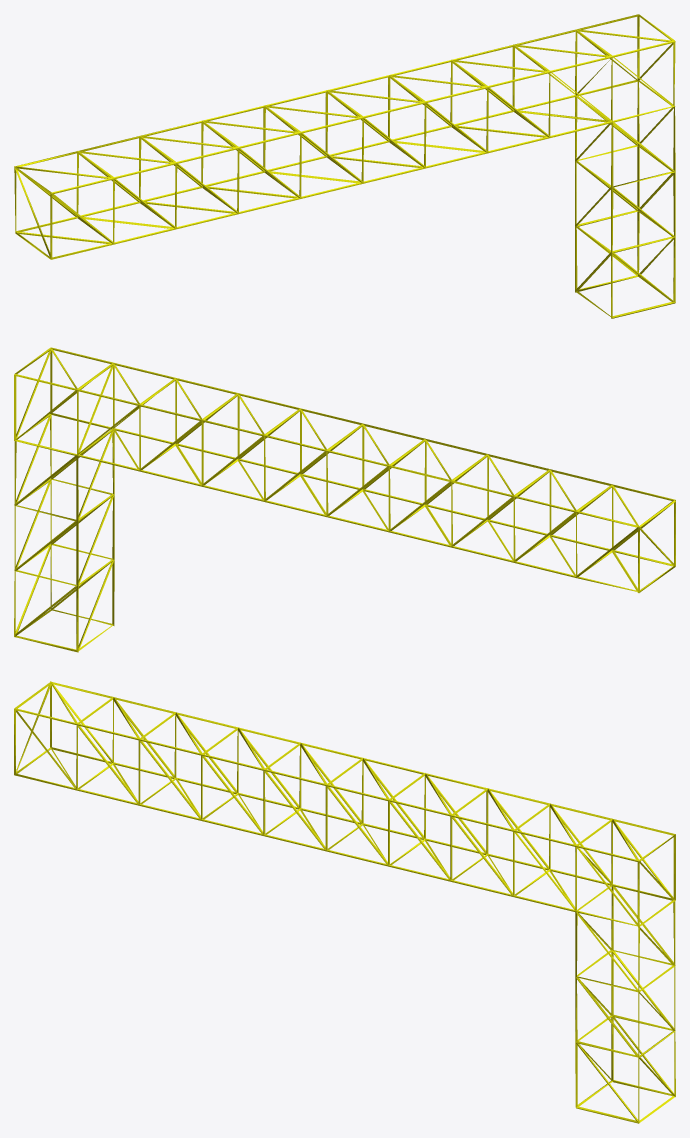
The model's file is Billboard.fbx.
3 views of the same model, one above another, from view 1: azimuth 30°, elevation 25°; view 2: azimuth 150°, elevation 25°; view 3: azimuth 330°, elevation 25° (orthographic).
Parts seen in each view (by area): view 1: Billboard_Metal; view 2: Billboard_Metal; view 3: Billboard_Metal.
Part boxes in pixels (<box>): Billboard_Metal: <box>14,14,675,318</box>; Billboard_Metal: <box>14,347,675,652</box>; Billboard_Metal: <box>14,681,675,1123</box>.
Size of the model in its own units: 1204 by 484 by 124.
